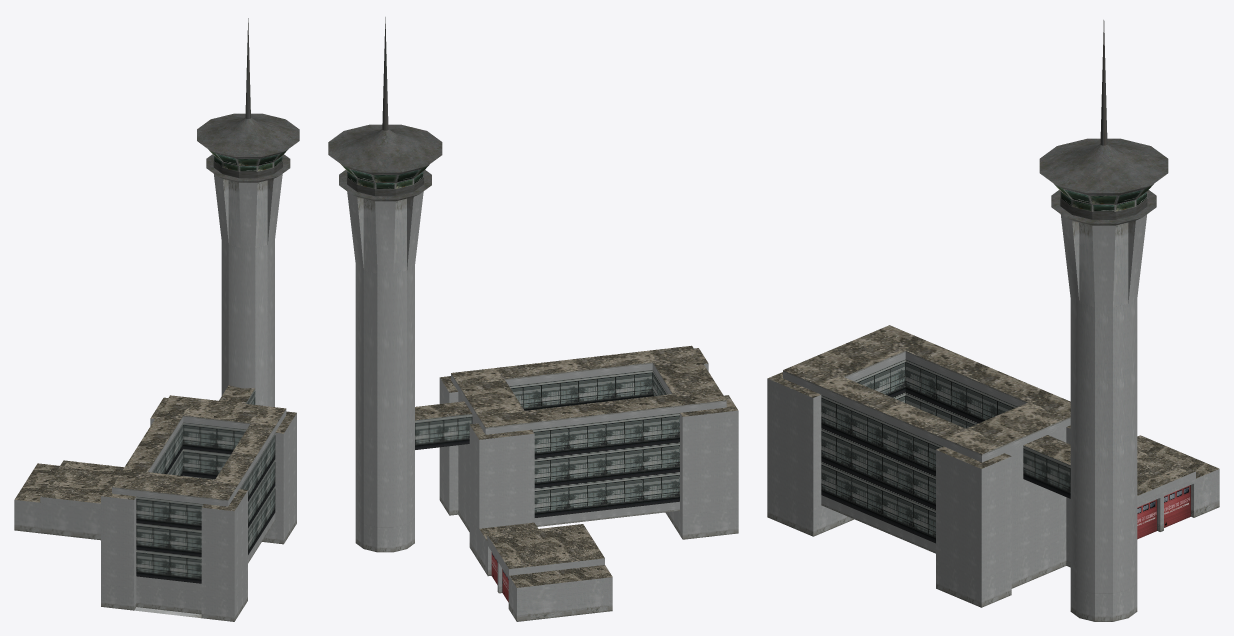
File: controltower_sfse.obj
3 views of the same model, side by side, from view 1: azimuth 30°, elevation 25°; view 2: azimuth 150°, elevation 25°; view 3: azimuth 270°, elevation 25° (orthographic). The views are drawn at different scales.
Visible parts, largest first — view 1: controltower_SFSe; view 2: controltower_SFSe; view 3: controltower_SFSe.
Part boxes in pixels (x1=…): controltower_SFSe: x1=14, y1=18, x2=299, y2=621; controltower_SFSe: x1=328, y1=17, x2=738, y2=621; controltower_SFSe: x1=767, y1=20, x2=1219, y2=621.
Size of the model in its own units: 46.3 by 75.66 by 52.24.
Materials: 8 (8 with a texture image).
